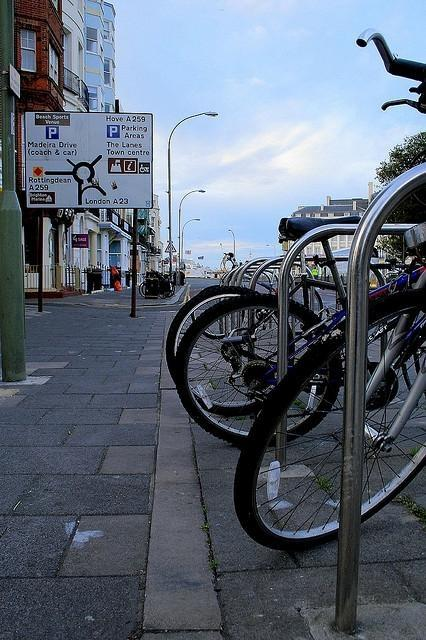bicycle: (230, 259, 426, 559), (176, 216, 362, 448), (166, 248, 336, 384), (140, 270, 172, 300)
